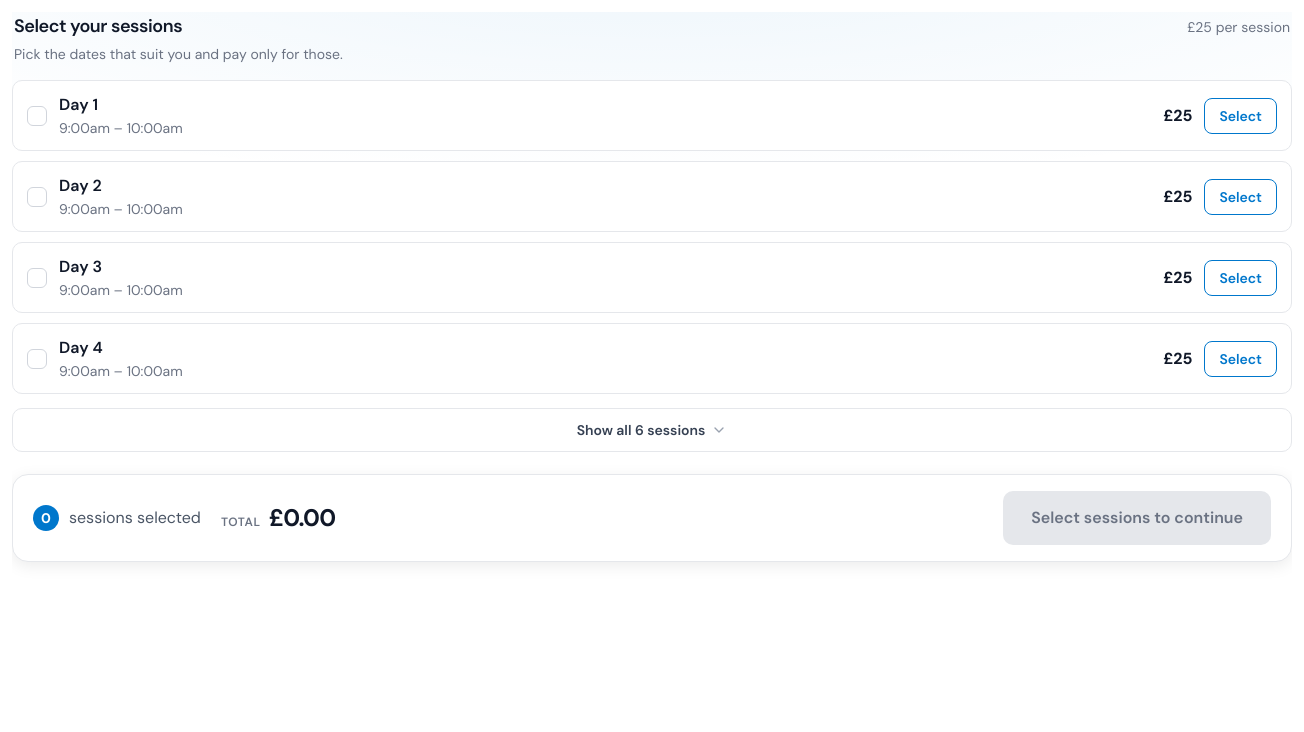
Test: SessionPicker — collapse toggle › collapses back to 4 rows after clicking toggle a second time
Click the button with test id "toggle-sessions": (652, 430) [12,408,1292,452]
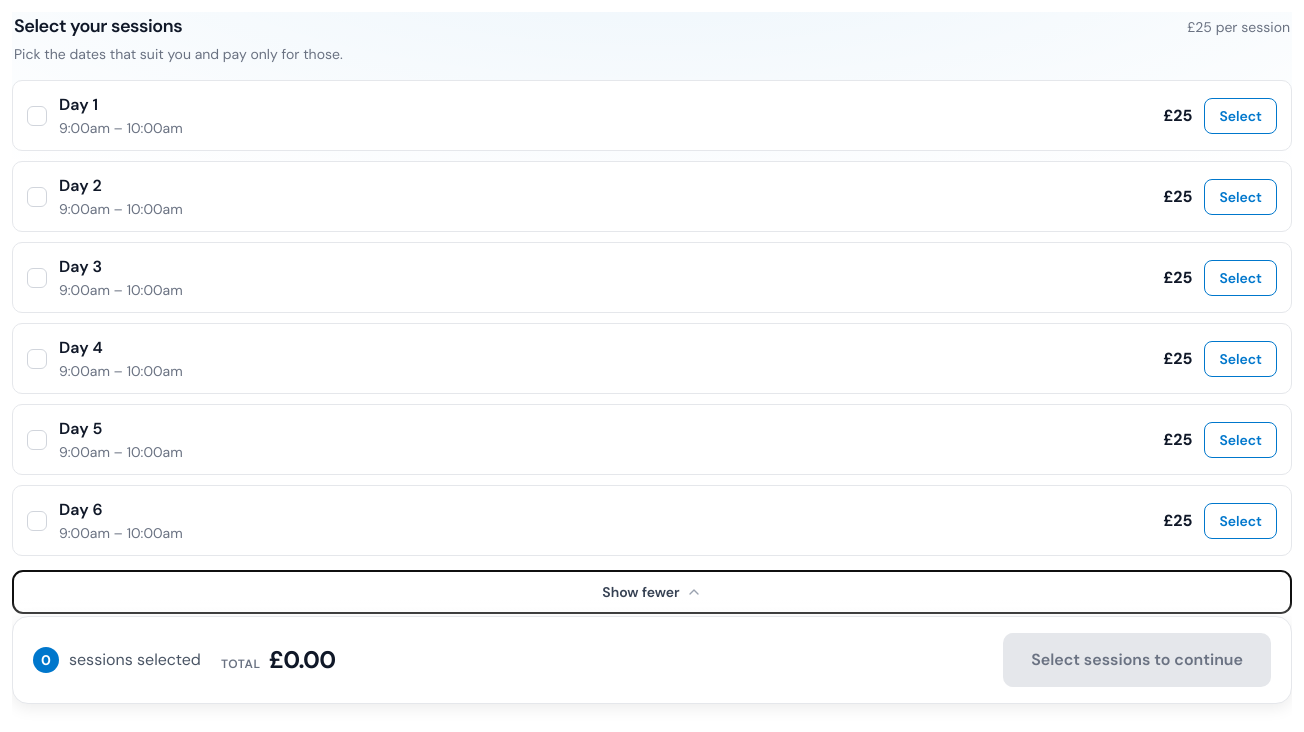
Click the button with test id "toggle-sessions": (652, 592) [12,570,1292,614]
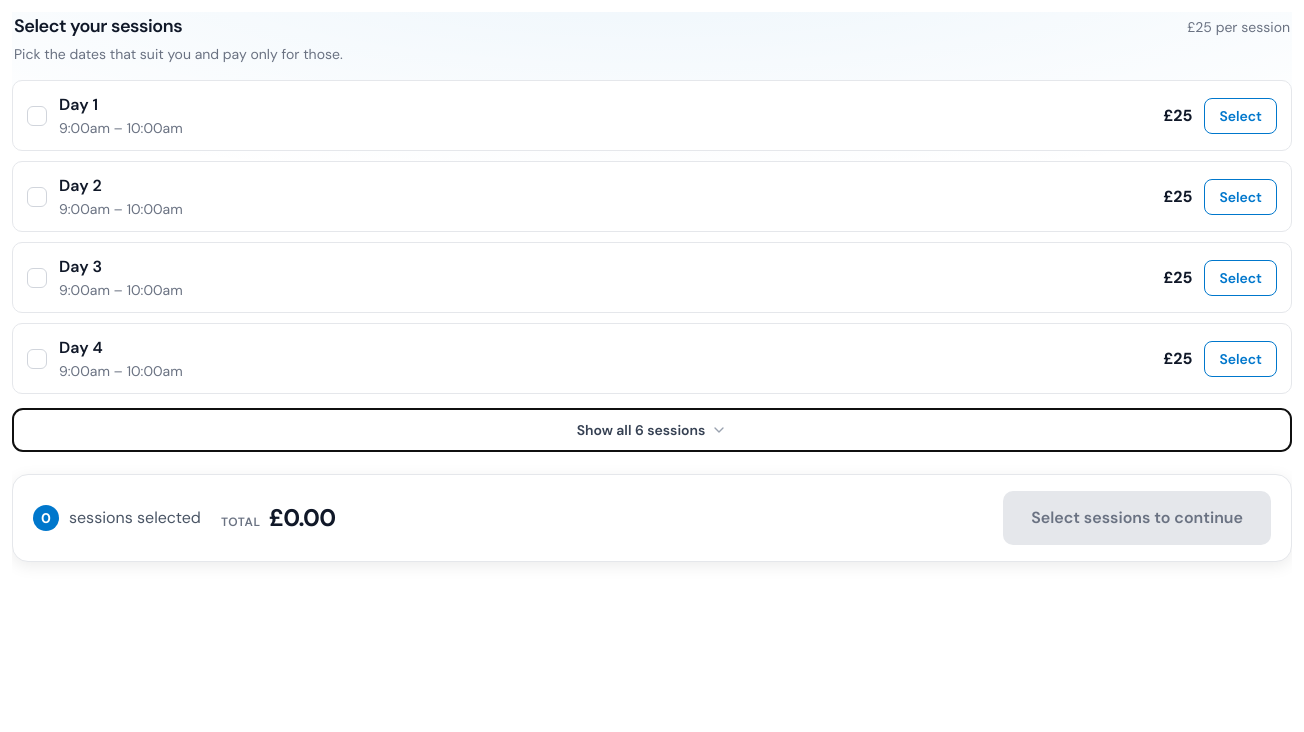
expect the number of buttons with test id "session-row" is 4: met, box [12,80,1292,151]; [12,161,1292,232]; [12,242,1292,313]; [12,323,1292,394]
